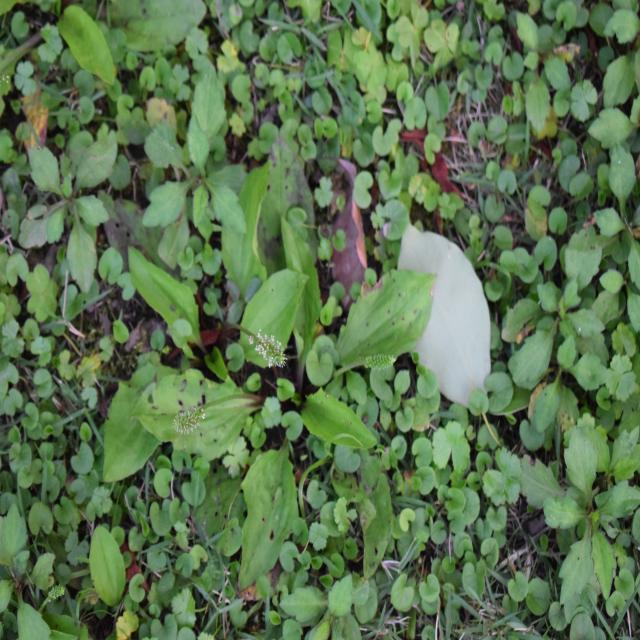plantain: (112, 221, 418, 530)
